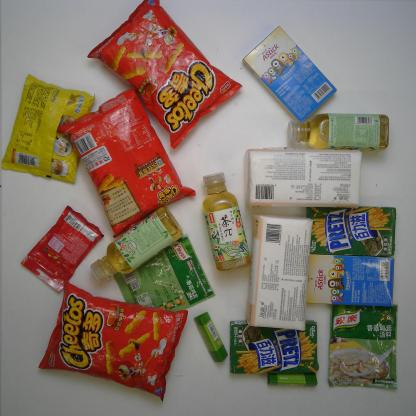Candy: (17, 204, 107, 296)
Dessert: (240, 23, 340, 126), (228, 318, 320, 376), (302, 203, 397, 258), (304, 253, 395, 308)
Drink: (87, 203, 188, 284), (200, 169, 254, 273), (284, 111, 392, 154)
Instant Noodles: (0, 72, 96, 186)
Puffed Food: (86, 0, 245, 153), (55, 86, 200, 240), (35, 275, 192, 405)
Seasoner: (112, 232, 217, 314), (326, 302, 402, 392)
Stationery: (192, 310, 229, 364), (265, 371, 320, 388)
Tissue: (241, 144, 365, 212), (245, 212, 315, 332)
